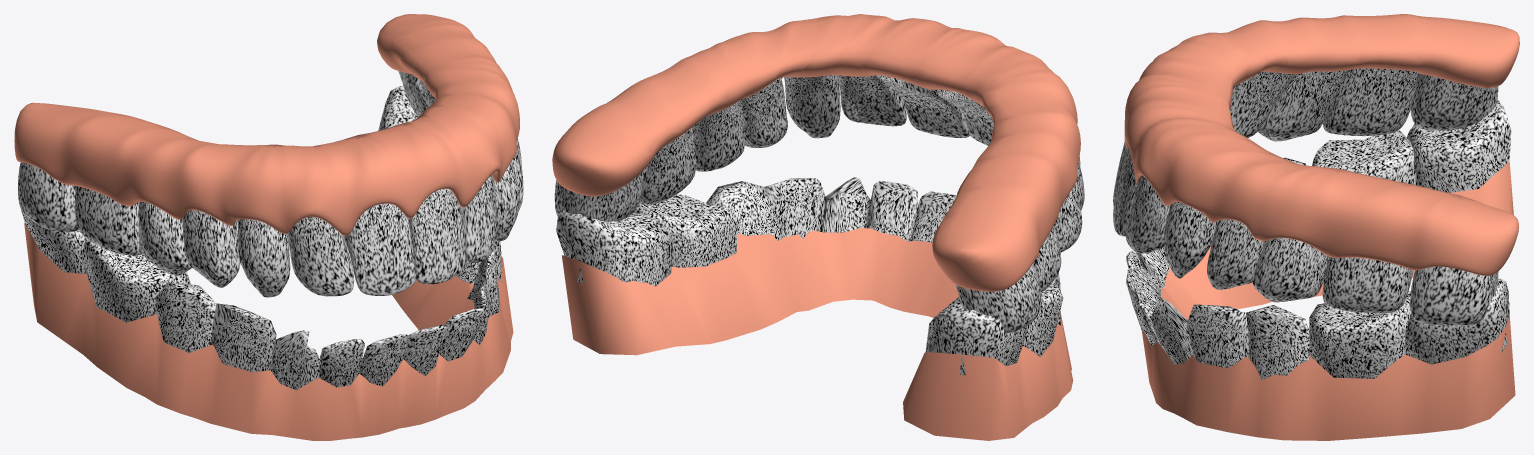
The model's file is Simon.gltf.
The picture shows the model from 3 angles, left to right: view 1: azimuth 30°, elevation 25°; view 2: azimuth 150°, elevation 25°; view 3: azimuth 270°, elevation 25°; orthographic projection. The views are drawn at different scales.
Parts seen in each view (by area): view 1: upperJaw, LowerJaw; view 2: upperJaw, LowerJaw; view 3: upperJaw, LowerJaw.
Part boxes in pixels (x1=…): upperJaw: x1=14, y1=14, x2=523, y2=297; LowerJaw: x1=20, y1=85, x2=513, y2=440; upperJaw: x1=552, y1=14, x2=1084, y2=333; LowerJaw: x1=556, y1=177, x2=1073, y2=440; upperJaw: x1=1113, y1=14, x2=1519, y2=325; LowerJaw: x1=1126, y1=99, x2=1515, y2=440.
Bounding box in the file's own units: 0.1784 × 0.106 × 0.1376.
2 materials, 1 textured.
